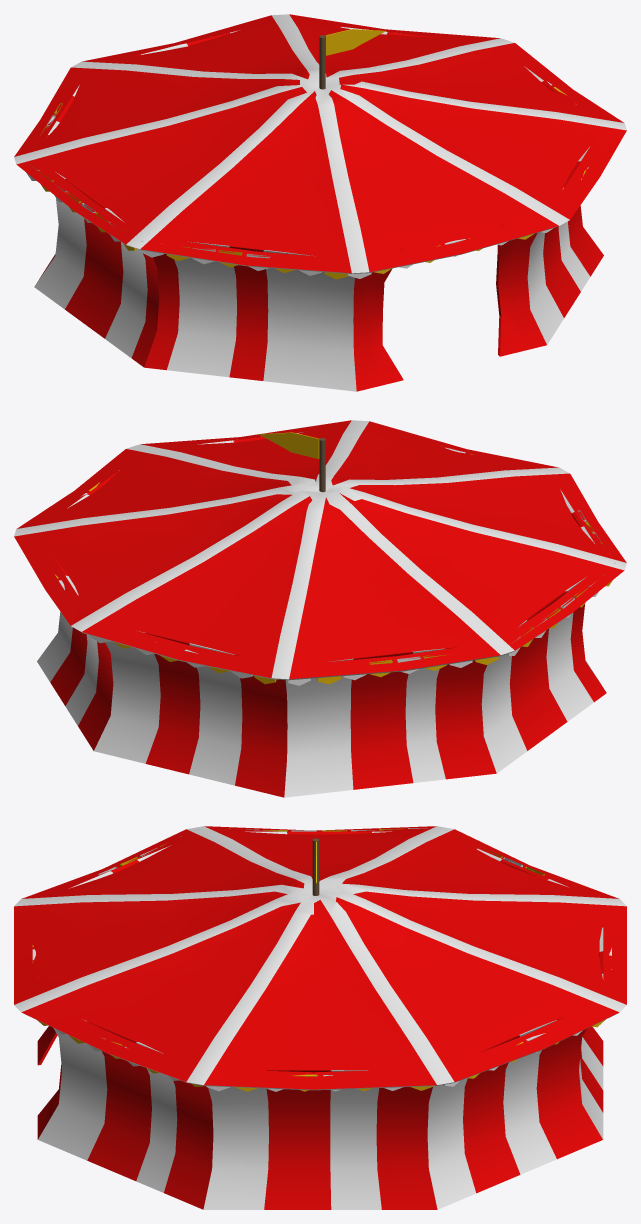
File: Carpa.fbx
3 views of the same model, one above another, from view 1: azimuth 30°, elevation 25°; view 2: azimuth 150°, elevation 25°; view 3: azimuth 270°, elevation 25° (orthographic). The views are drawn at different scales.
Parts seen in each view (by area): view 1: pCylinder6, pCube42; view 2: pCylinder6, pCube42; view 3: pCylinder6.
Boxes of the visible parts, x1,y1,x2,y2 form: pCylinder6: (14, 14, 626, 391); pCube42: (325, 29, 385, 55); pCylinder6: (14, 420, 626, 797); pCube42: (259, 432, 319, 458); pCylinder6: (14, 826, 626, 1209).
Size of the model in its own units: 32.55 by 14.72 by 32.55.
